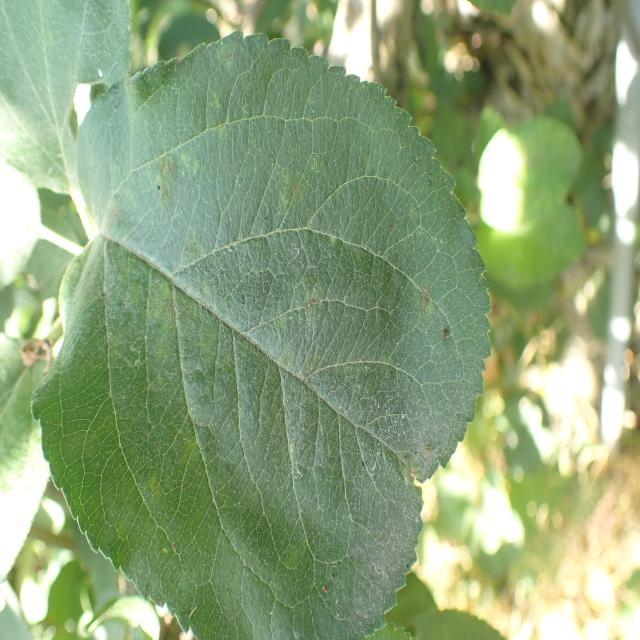scab: (94, 110, 462, 614)
